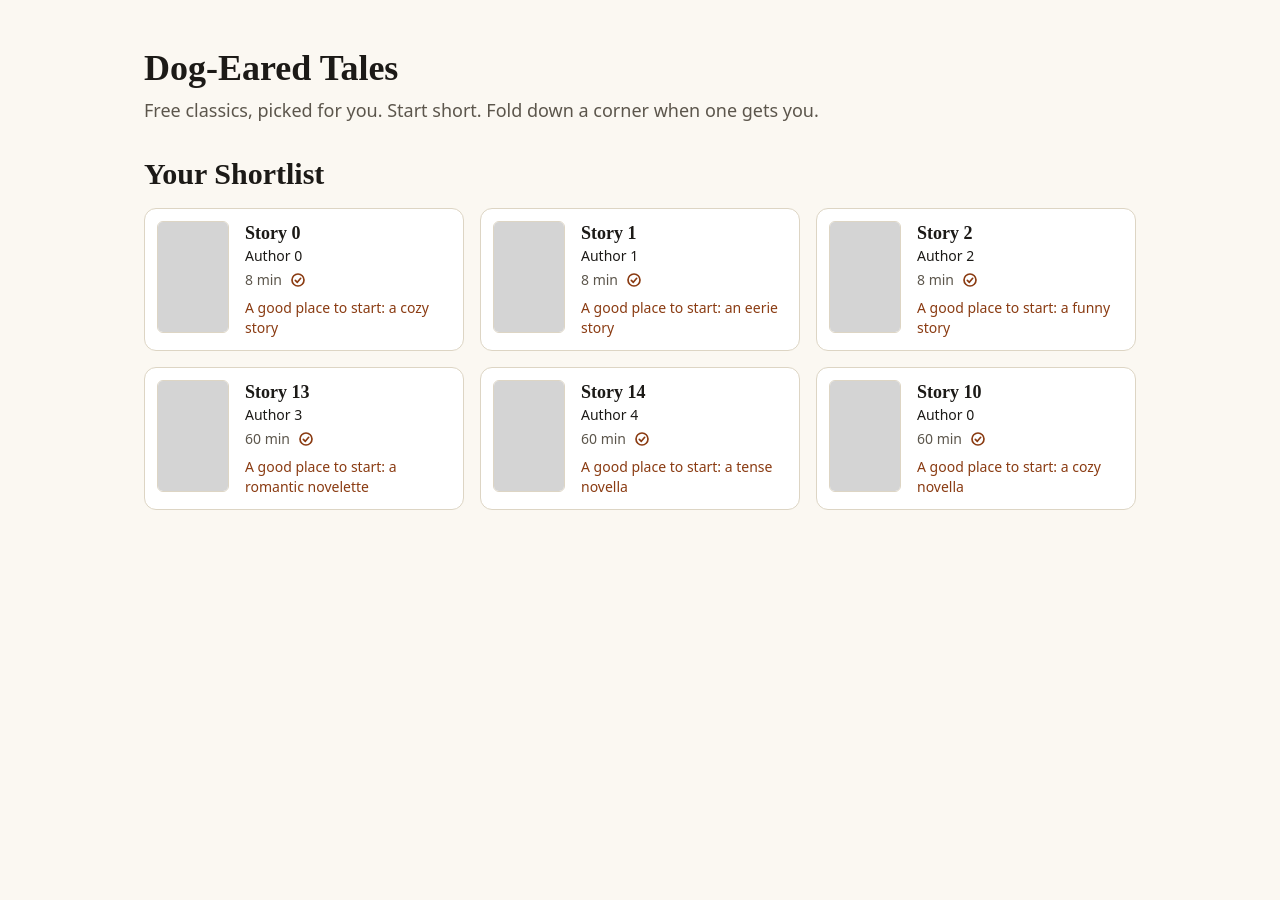
Test: offline books › shows Available offline in the detail sheet for a stored book
Click the button "Story 0 Author 0 8 min A good place to start: a cozy story" at [304, 279], box x1=144 y1=208 x2=464 y2=351
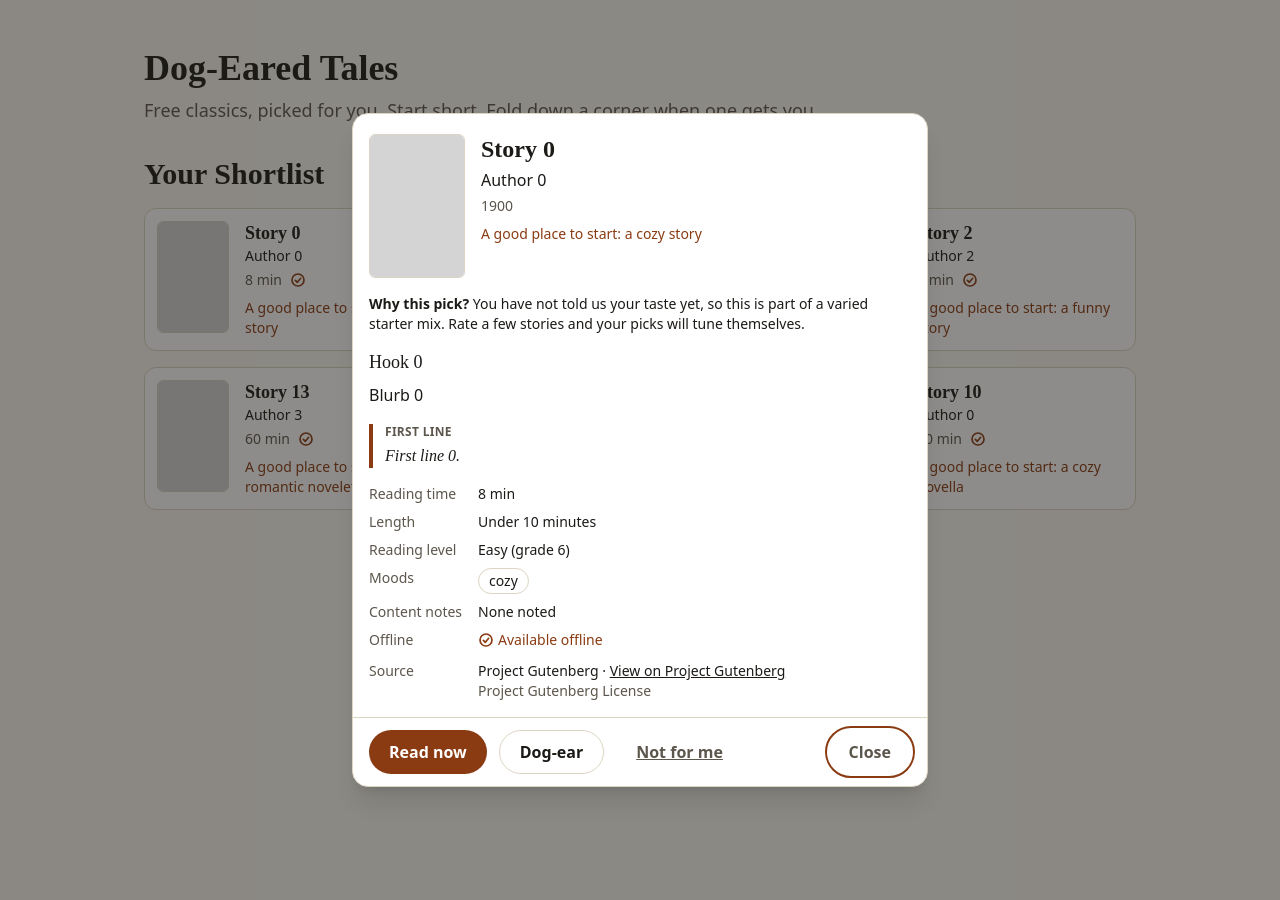
Now the text "Available offline" is shown, box x1=498 y1=630 x2=603 y2=650
